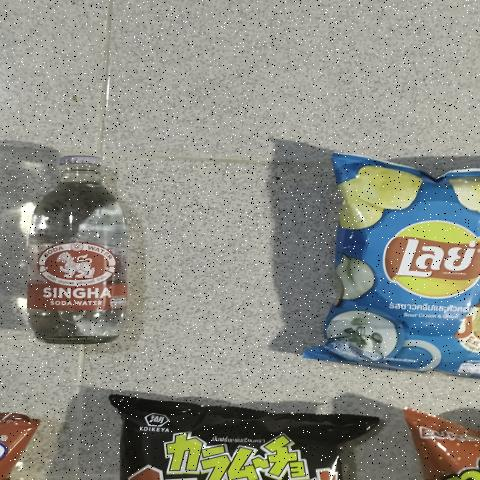lay_blue: (335, 170, 480, 368)
singha_soda: (21, 148, 130, 348)
